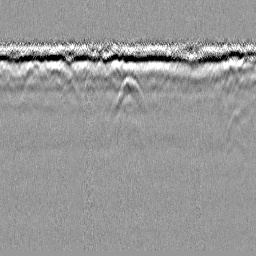cavity: (114, 75, 146, 114)
